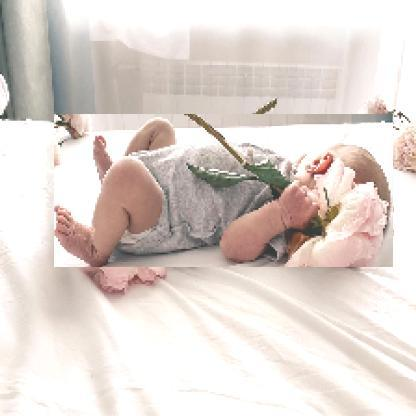child: (56, 116, 396, 270)
